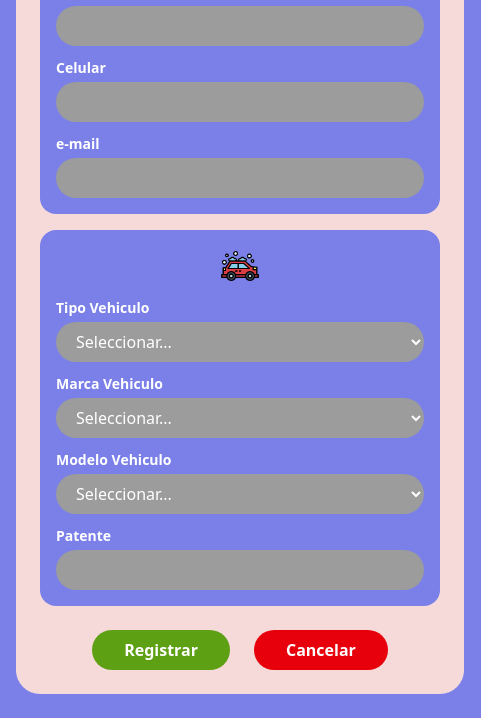
NuevoClientePage › con un campo vacío advierte y no registra
(page scrolled)
Click the button "Registrar" at (161, 650), box [92,630,230,670]
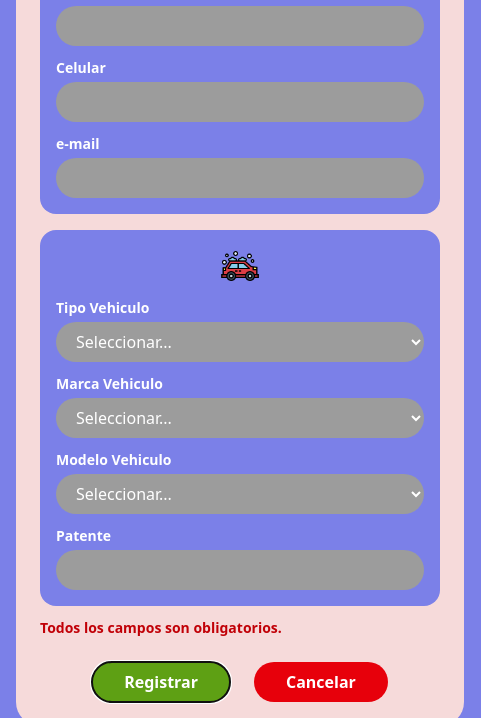
Expected: the message "Todos los campos son obligatorios." is shown, [40,618,282,637]
